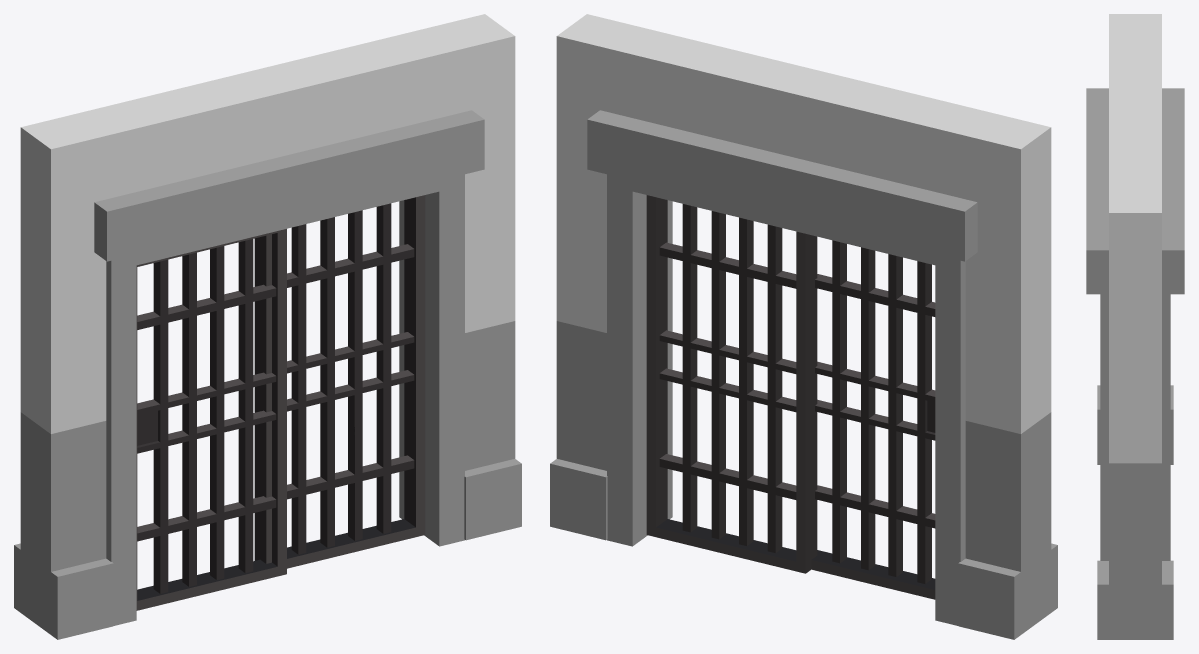
The model's file is wallroad1.fbx.
3 renders of one model, left to right at view 1: azimuth 30°, elevation 25°; view 2: azimuth 150°, elevation 25°; view 3: azimuth 270°, elevation 25°, orthographic. The views are drawn at different scales.
Parts seen in each view (by area): view 1: wallroad1, celldoor; view 2: wallroad1, celldoor; view 3: wallroad1.
Part boxes in pixels (box(x1,y1,x2,y2)): wallroad1: box(14, 14, 521, 639); celldoor: box(136, 229, 286, 610); wallroad1: box(550, 14, 1057, 639); celldoor: box(811, 240, 935, 599); wallroad1: box(1086, 14, 1184, 639).
Bounding box in the file's own units: 160 × 160 × 33.3.
